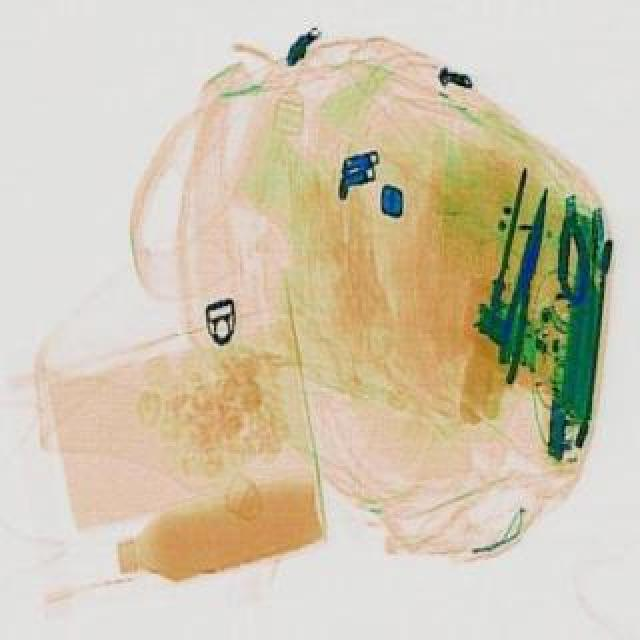wrench: (490, 184, 558, 384)
